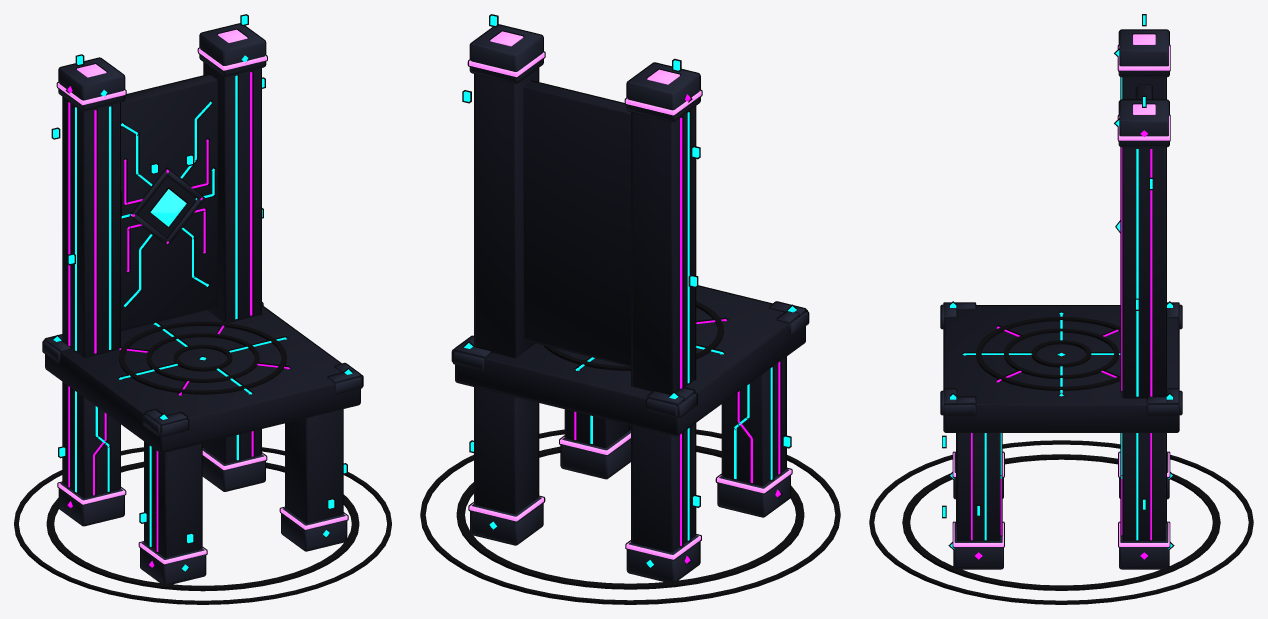
Rendered from CyberCoreChair.fbx.
3 renders of one model, left to right at view 1: azimuth 30°, elevation 25°; view 2: azimuth 150°, elevation 25°; view 3: azimuth 270°, elevation 25°, orthographic. The views are drawn at different scales.
Visible parts, largest first — view 1: Seat, Backrest_Panel, Post_L, Circuits_Neon_Cyan, Post_R, Hologram_Floor_Ring, Leg_FR, Leg_FL, Circuits_Neon_Magenta, Leg_BL, MetalCap_Post_R, MetalCap_Post_L (+11 smaller); view 2: Backrest_Panel, Seat, Post_L, Post_R, Hologram_Floor_Ring, Leg_BR, Leg_BL, Leg_FL, Circuits_Neon_Cyan, MetalCap_Post_R, MetalCap_Post_L, Seat_Corner_Brackets (+9 smaller); view 3: Seat, Post_R, Hologram_Floor_Ring, Circuits_Neon_Cyan, Leg_BR, Leg_FR, Circuits_Neon_Magenta, Seat_Corner_Brackets, MetalCap_Post_L, MetalCap_Post_R, MetalCap_Leg_BR, MetalCap_Leg_FR (+4 smaller).
Boxes of the visible parts, <box> form: Seat: <box>45,305,360,453</box>; Backrest_Panel: <box>121,74,217,330</box>; Post_L: <box>62,96,120,357</box>; Circuits_Neon_Cyan: <box>73,74,286,548</box>; Post_R: <box>203,62,261,322</box>; Hologram_Floor_Ring: <box>14,443,391,604</box>; Leg_FR: <box>285,409,343,523</box>; Leg_FL: <box>144,441,202,557</box>; Circuits_Neon_Magenta: <box>67,71,289,553</box>; Leg_BL: <box>62,381,120,498</box>; MetalCap_Post_R: <box>199,23,266,76</box>; MetalCap_Post_L: <box>58,57,125,111</box>; Backrest_Panel: <box>523,80,630,366</box>; Seat: <box>455,285,805,436</box>; Post_L: <box>631,106,696,394</box>; Post_R: <box>474,68,539,358</box>; Hologram_Floor_Ring: <box>420,425,840,604</box>; Leg_BR: <box>474,387,539,514</box>; Leg_BL: <box>631,423,696,552</box>; Leg_FL: <box>721,356,786,486</box>; Circuits_Neon_Cyan: <box>543,110,774,542</box>; MetalCap_Post_R: <box>469,24,543,83</box>; MetalCap_Post_L: <box>626,62,700,122</box>; Seat_Corner_Brackets: <box>451,301,809,418</box>; Seat: <box>943,305,1179,432</box>; Post_R: <box>1121,146,1166,398</box>; Hologram_Floor_Ring: <box>869,440,1253,604</box>; Circuits_Neon_Cyan: <box>964,77,1139,541</box>; Leg_BR: <box>1122,433,1166,541</box>; Leg_FR: <box>956,433,1000,541</box>; Circuits_Neon_Magenta: <box>970,147,1152,541</box>; Seat_Corner_Brackets: <box>940,302,1182,416</box>; MetalCap_Post_L: <box>1118,29,1169,77</box>; MetalCap_Post_R: <box>1118,99,1169,147</box>; MetalCap_Leg_BR: <box>1119,521,1169,569</box>; MetalCap_Leg_FR: <box>953,521,1003,569</box>.
Bounding box in the file's own units: 1.11 × 1.5 × 1.11.
